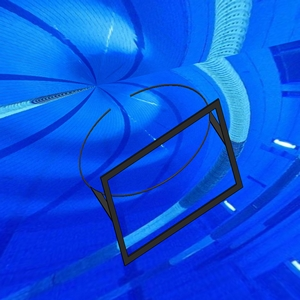circle: (78, 84, 244, 268)
